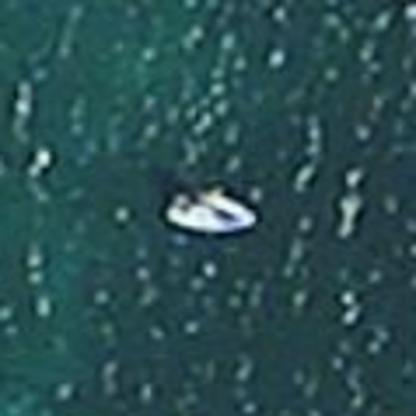ship: (157, 181, 261, 240)
